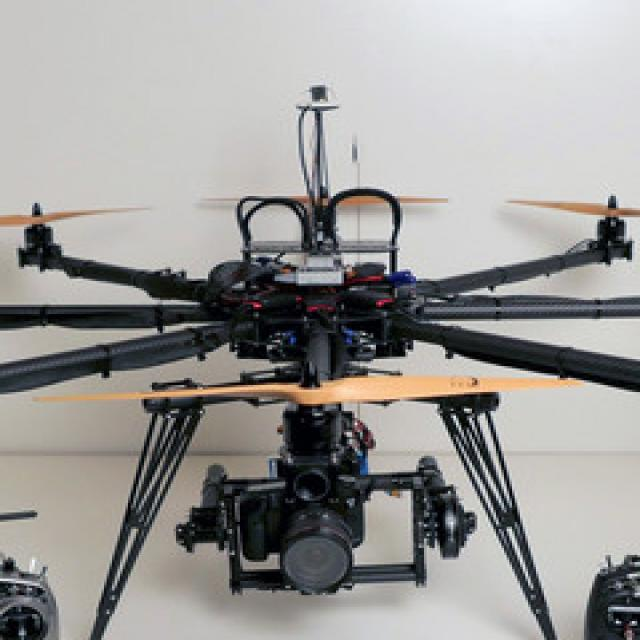drone: (0, 165, 640, 558)
